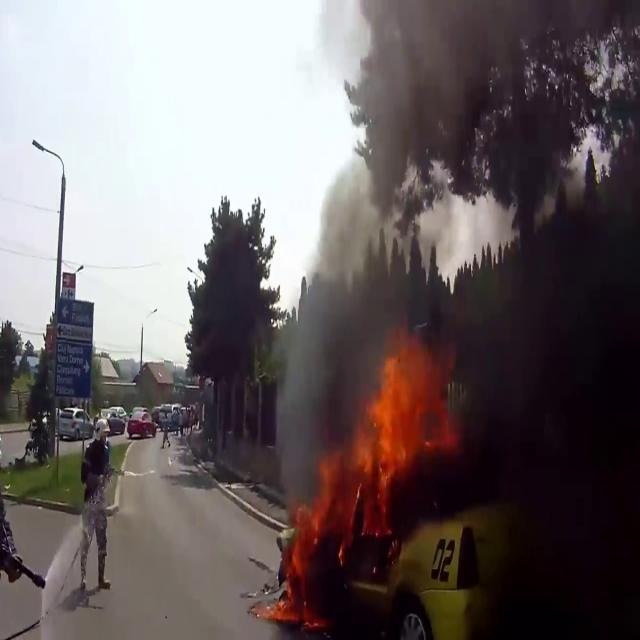Fire: (315, 322, 469, 538)
Smoke: (274, 18, 423, 476)
